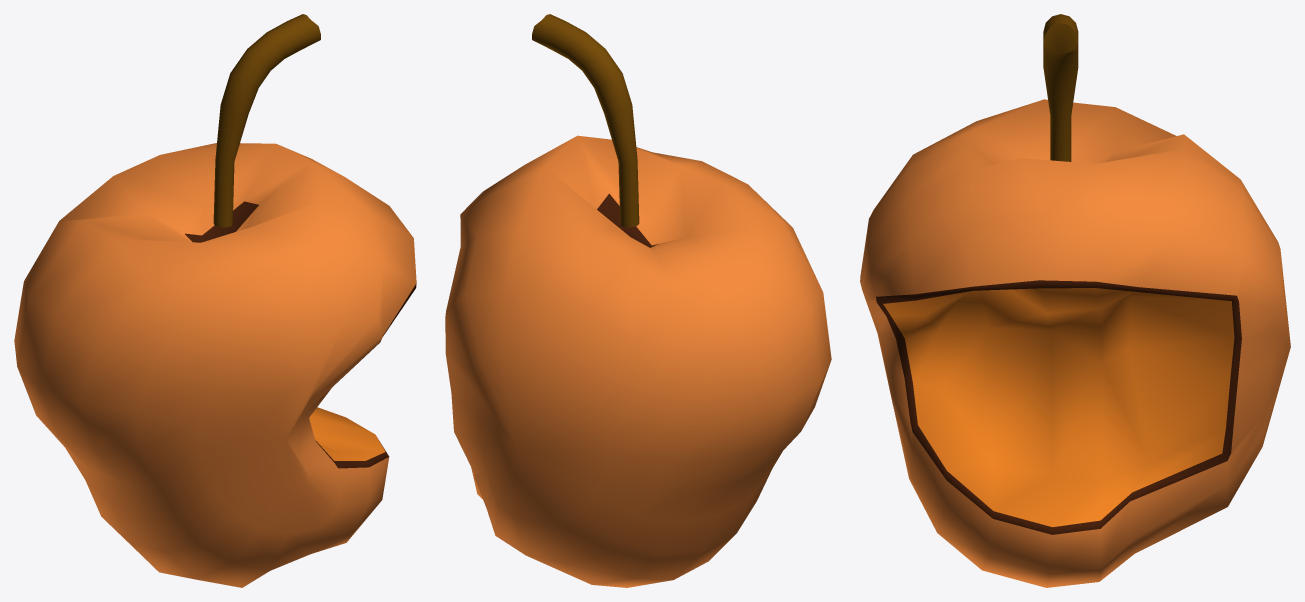
File: APPLE CORE02.FBX
3 renders of one model, left to right at view 1: azimuth 30°, elevation 25°; view 2: azimuth 150°, elevation 25°; view 3: azimuth 270°, elevation 25°, orthographic. The views are drawn at different scales.
Parts seen in each view (by area): view 1: Sphere001, Line001; view 2: Sphere001, Line001; view 3: Sphere001, Line001.
Boxes of the visible parts, x1,y1,x2,y2 form: Sphere001: (14, 143, 416, 587); Line001: (213, 14, 320, 227); Sphere001: (445, 135, 831, 587); Line001: (532, 14, 639, 227); Sphere001: (860, 99, 1290, 587); Line001: (1043, 14, 1078, 161).
Size of the model in its own units: 105 by 155 by 104.
